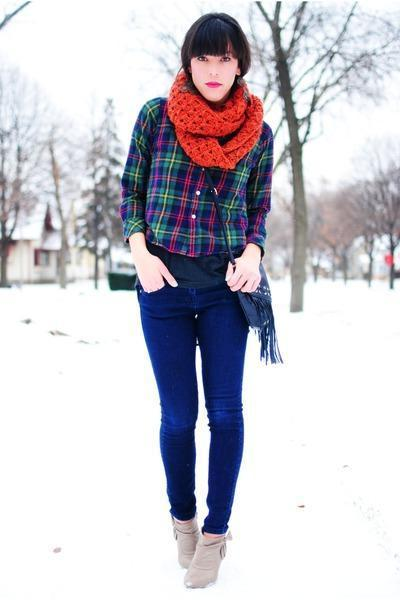long sleeve shirt: (115, 102, 280, 260)
trousers: (140, 273, 254, 532)
